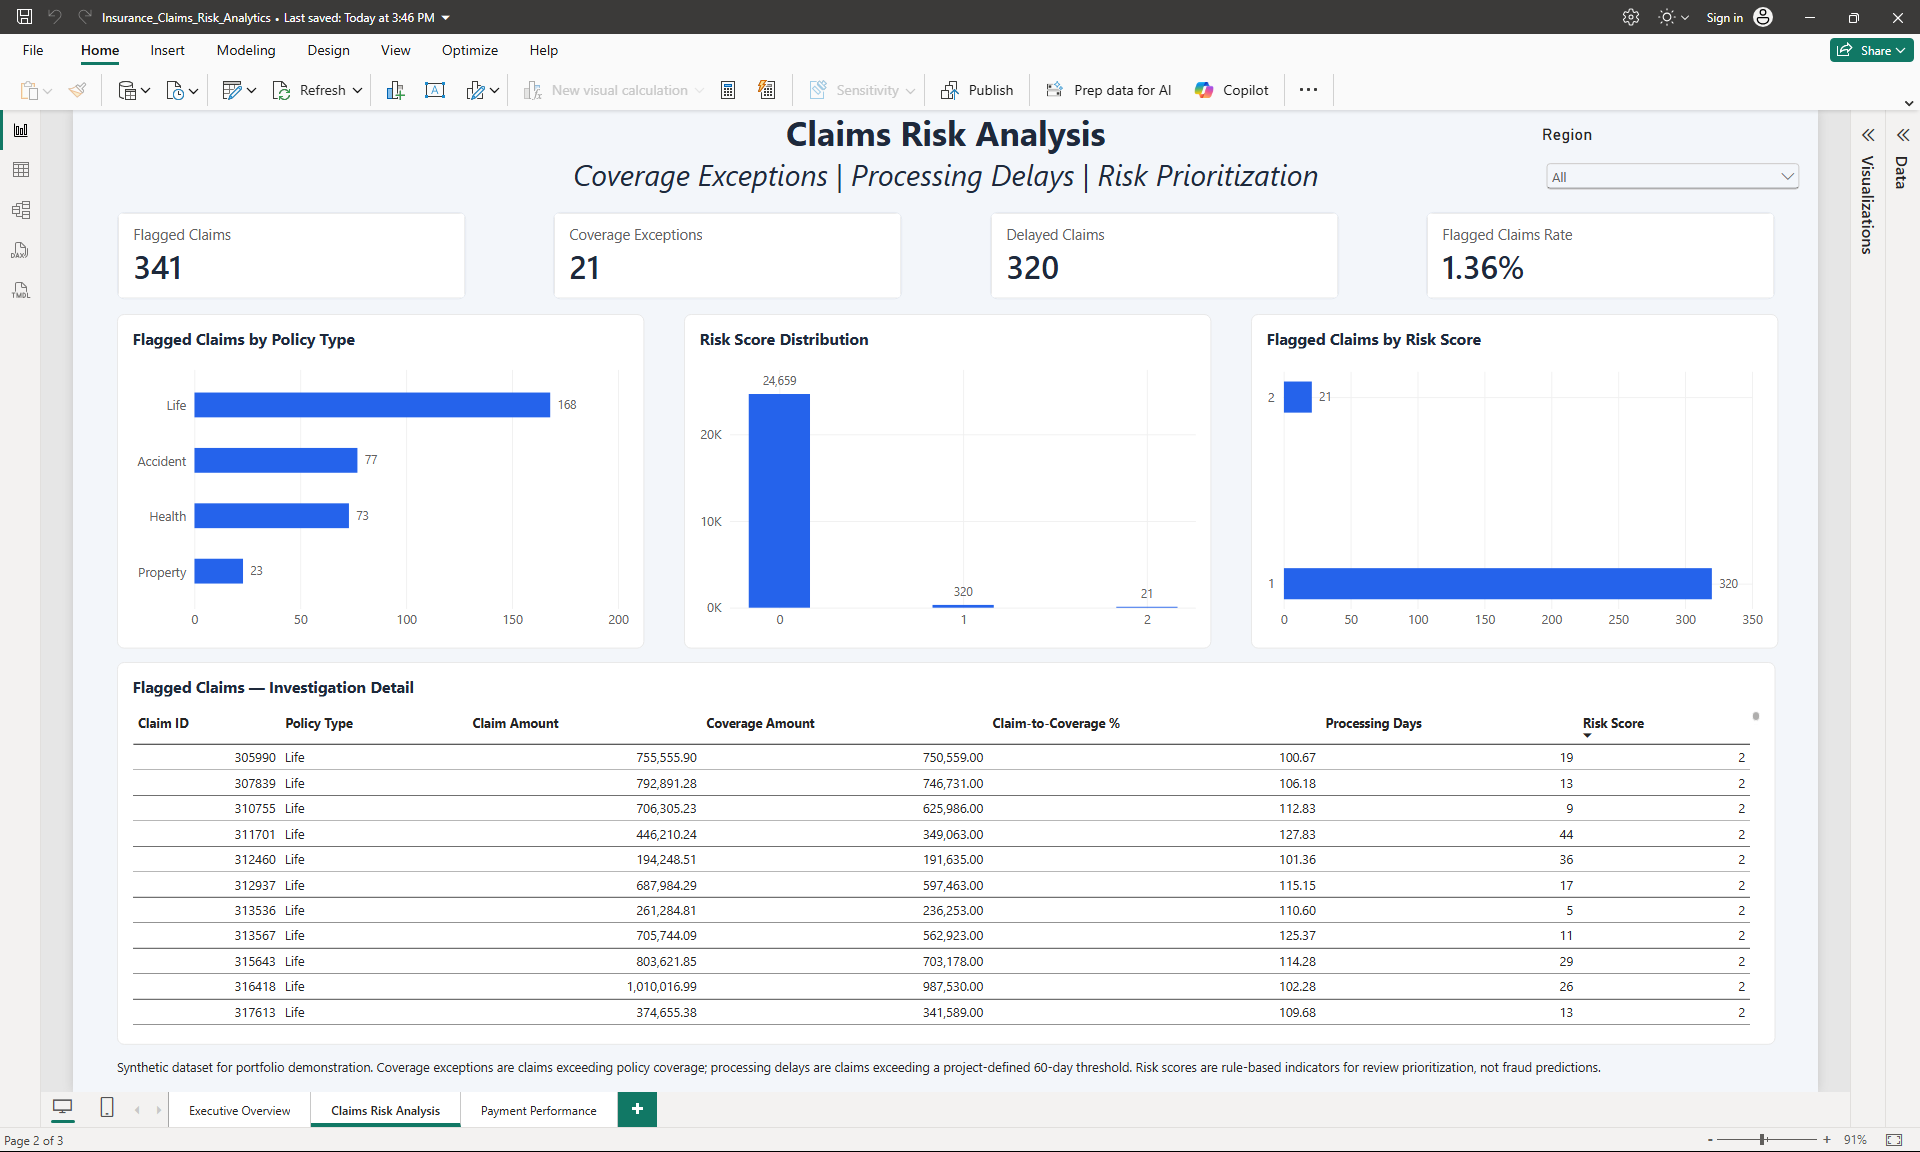

The page's visual inventory and layout, read from the dashboard file:
{"tool":"powerbi","page":{"name":"Claims Risk Analysis","canvas":[1920,1080],"ordinal":1},"visuals":[{"type":"textbox","box":[479.7,0,960.6,96.2],"z":0},{"type":"cardVisual","fields":{"Data":["Claims.Flagged Claims"]},"box":[48,112,384,96],"z":1000},{"type":"cardVisual","fields":{"Data":["Claims.Delayed Claims"]},"box":[1008,112,384,96],"z":2000},{"type":"cardVisual","fields":{"Data":["Claims.Flagged Claims Rate"]},"box":[1488,112,384,96],"z":3000},{"type":"cardVisual","fields":{"Data":["Claims.Coverage Exceptions"]},"box":[528,112,384,96],"z":4000},{"type":"clusteredBarChart","title":"Flagged Claims by Policy Type","fields":{"Category":["Policies.policy_type"],"Y":["Claims.Flagged Claims"]},"box":[48,224,580,368],"z":5000},{"type":"clusteredColumnChart","title":"Risk Score Distribution","fields":{"Category":["Claims.risk_score"],"Y":["Claims.Total Claims"]},"box":[672,224,580,368],"z":6000},{"type":"tableEx","title":"Flagged Claims — Investigation Detail","fields":{"Values":["Claims.claim_id","Claims.policy_type","Claims.claim_amount","Claims.coverage_amount","Claims.claim_coverage_pct","Claims.processing_days","Claims.risk_score"]},"box":[48.1,607.5,1823.8,421.5],"z":7000},{"type":"slicer","title":"Region","fields":{"Values":["Customers.region"]},"box":[1616,16,288,80],"z":8000},{"type":"textbox","box":[48.1,1042.9,1823.8,24],"z":9000},{"type":"clusteredBarChart","title":"Flagged Claims by Risk Score","fields":{"Category":["Claims.risk_score"],"Y":["Claims.Total Claims"]},"box":[1296,224,580,368],"z":9001}]}

Visuals, with their boxes on the page's 1920x1080 design canvas (x1, y1, x2, y2). These are canvas units, not pixel positions in the 1920x1152 screenshot, which may show the page scaled, cropped or inside an application window:
textbox: bbox(480, 0, 1440, 96)
cardVisual - Claims.Flagged Claims: bbox(48, 112, 432, 208)
cardVisual - Claims.Delayed Claims: bbox(1008, 112, 1392, 208)
cardVisual - Claims.Flagged Claims Rate: bbox(1488, 112, 1872, 208)
cardVisual - Claims.Coverage Exceptions: bbox(528, 112, 912, 208)
"Flagged Claims by Policy Type" clusteredBarChart: bbox(48, 224, 628, 592)
"Risk Score Distribution" clusteredColumnChart: bbox(672, 224, 1252, 592)
"Flagged Claims — Investigation Detail" tableEx: bbox(48, 608, 1872, 1029)
"Region" slicer: bbox(1616, 16, 1904, 96)
textbox: bbox(48, 1043, 1872, 1067)
"Flagged Claims by Risk Score" clusteredBarChart: bbox(1296, 224, 1876, 592)
